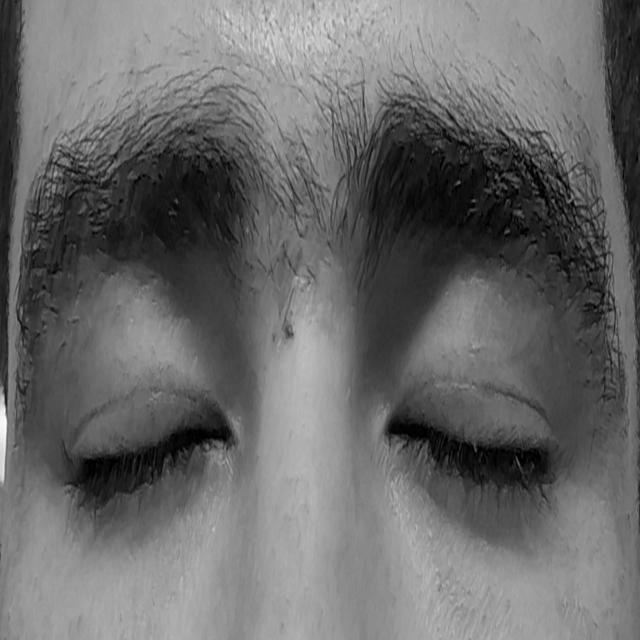real: (18, 237, 614, 577)
